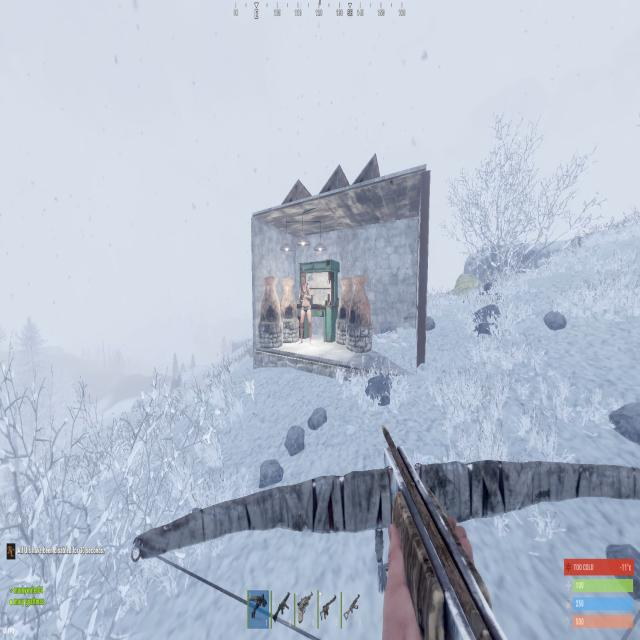Player: (297, 270, 314, 348)
